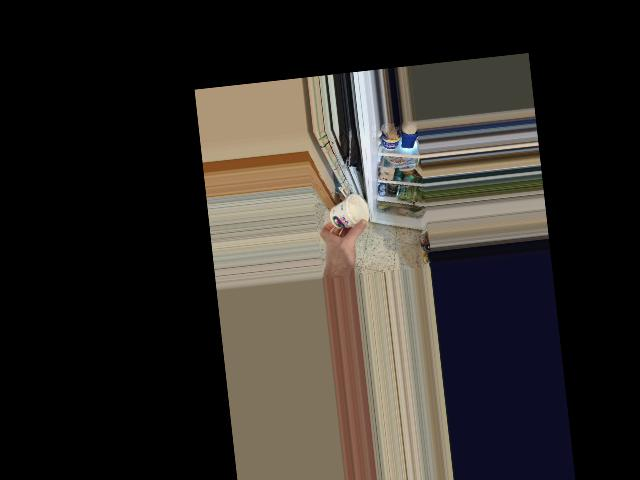cotage: (331, 190, 365, 229)
